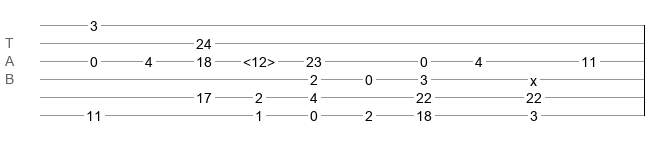0: (90, 54, 98, 64), (310, 108, 318, 118), (365, 72, 373, 82), (420, 54, 428, 64)
1: (255, 108, 263, 118)
11: (86, 108, 102, 118), (581, 54, 597, 64)
17: (196, 90, 212, 100)
18: (196, 54, 212, 64), (416, 108, 432, 118)
2: (255, 90, 263, 100), (310, 72, 318, 82), (365, 108, 373, 118)
22: (416, 90, 432, 100), (526, 90, 542, 100)
23: (306, 54, 322, 64)
24: (196, 36, 212, 46)
3: (90, 18, 98, 28), (420, 72, 428, 82), (530, 108, 538, 118)
4: (145, 54, 153, 64), (310, 90, 318, 100), (475, 54, 483, 64)
harmonic: (243, 54, 275, 64)
x: (530, 73, 537, 81)
